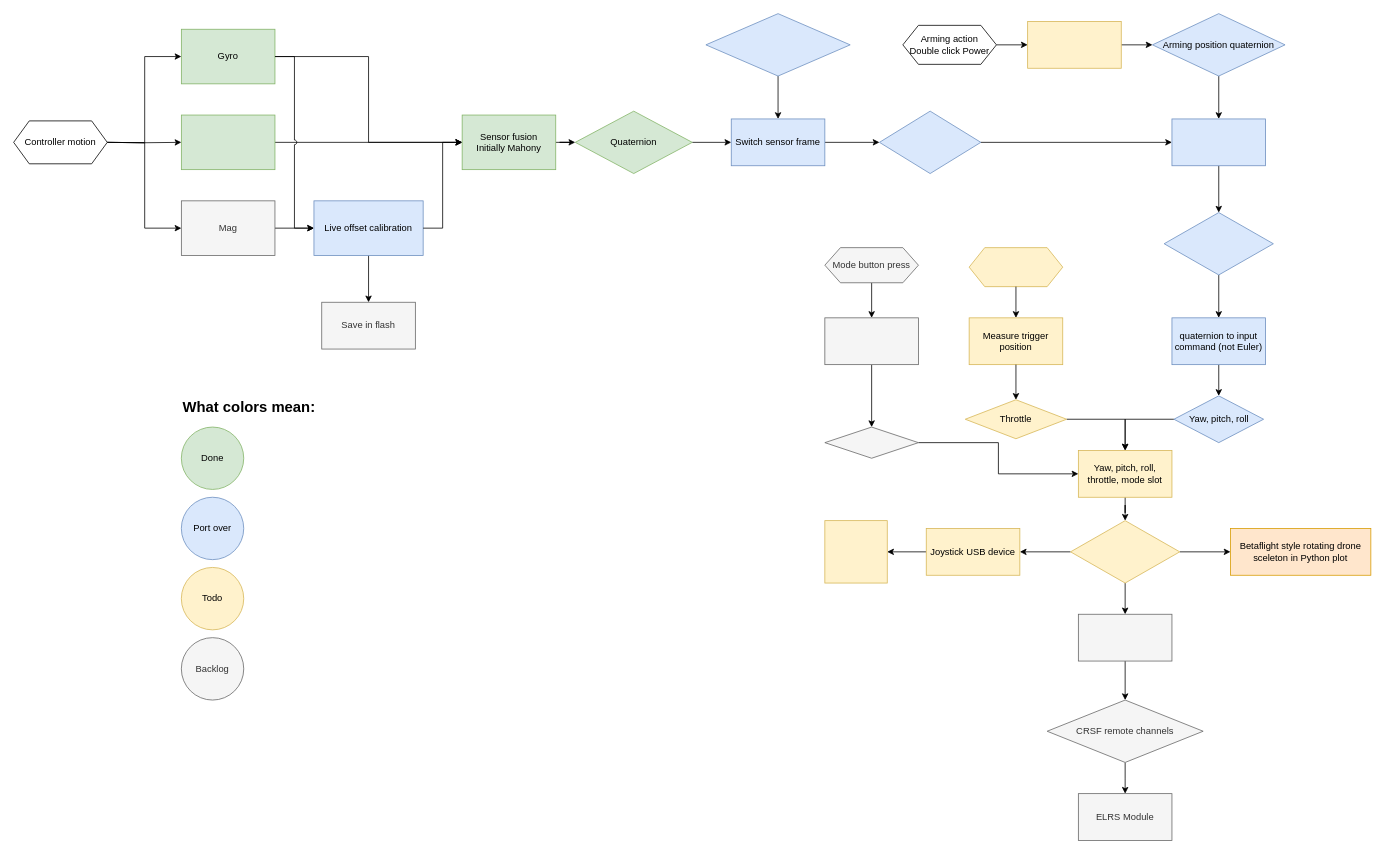
Some shapes in this 1385 by 854 pixel diagram are drawn without their labels. The box of each missing label's shape, as (x1, y1, x2, y2) in pixels:
Accel: (181, 114, 275, 170)
Attitude quaternion: (879, 110, 981, 174)
Board rotation quaternion: (705, 13, 850, 76)
Control quaternion: (1163, 212, 1273, 275)
Control quaternion compute: (1171, 118, 1266, 166)
CRSF driver: (1078, 613, 1172, 661)
Drone command: (1070, 520, 1180, 583)
Drone Simulator for testing: (824, 520, 887, 583)
Flight mode: (824, 426, 918, 458)
Handle mode switch: (824, 317, 918, 365)
Save attitude quaternion: (1027, 21, 1121, 68)
Trigger position: (968, 247, 1063, 287)
